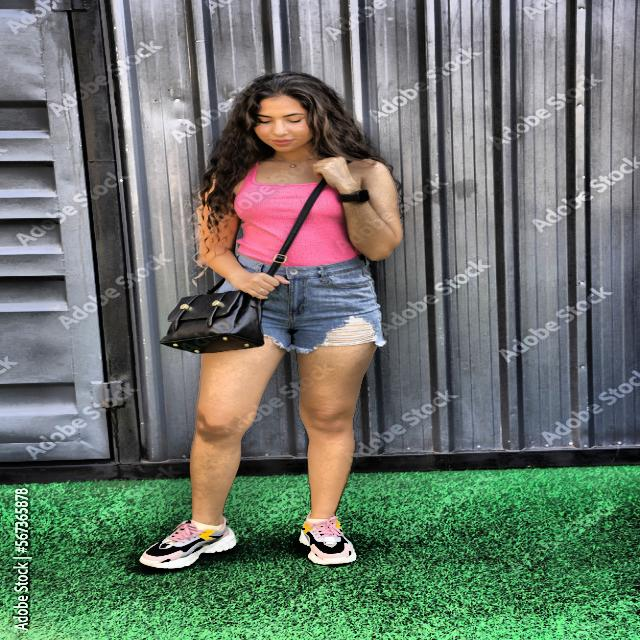Human: (110, 28, 438, 571)
